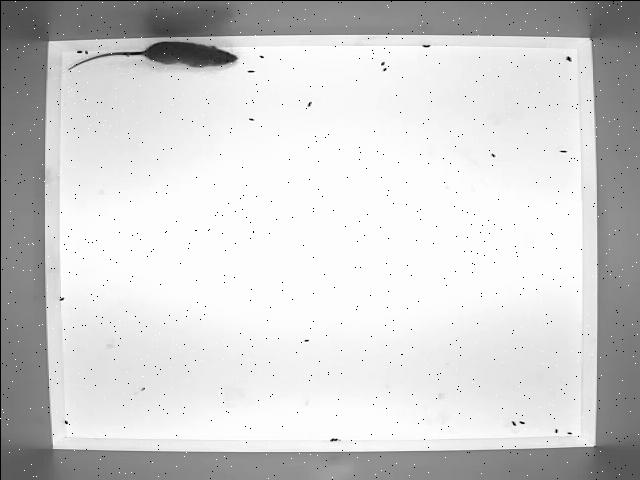Tikus: (49, 40, 240, 70)
